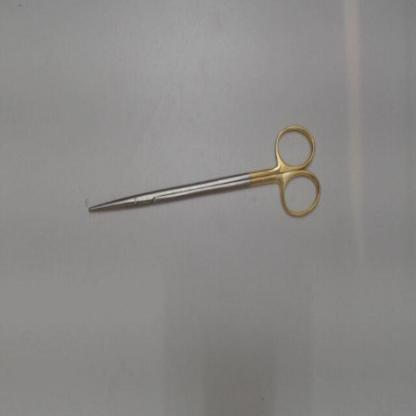7 Metzenbaum Scissors: (89, 118, 325, 222)
